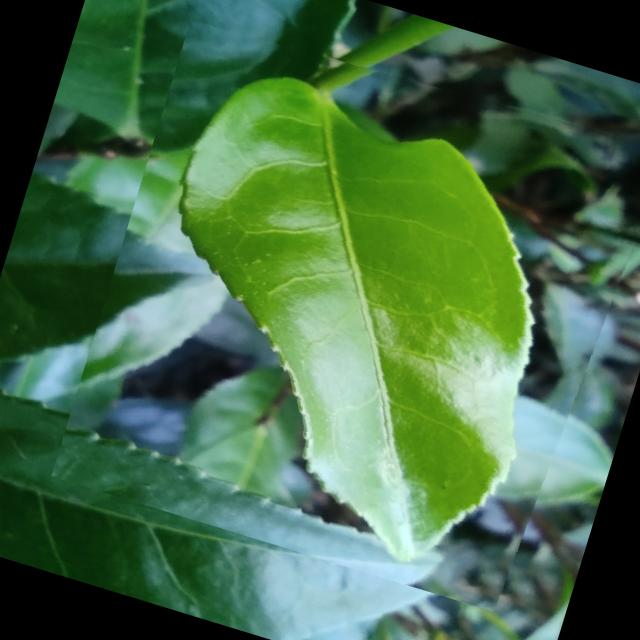Category C(4-7 days): (49, 5, 640, 621)
